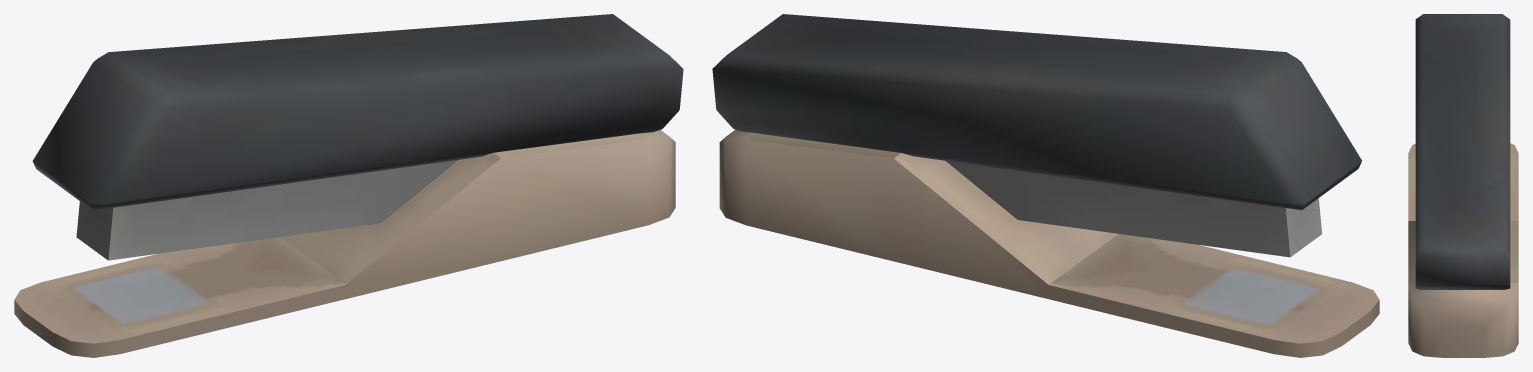
Rendered from OfficeDeskSet02__3.fbx.
3 views of the same model, side by side, from view 1: azimuth 30°, elevation 25°; view 2: azimuth 150°, elevation 25°; view 3: azimuth 270°, elevation 25° (orthographic). The views are drawn at different scales.
Visible parts, largest first — view 1: OfficeDeskSet02; view 2: OfficeDeskSet02; view 3: OfficeDeskSet02.
Boxes of the visible parts, x1,y1,x2,y2 form: OfficeDeskSet02: (14, 14, 683, 357); OfficeDeskSet02: (712, 14, 1379, 357); OfficeDeskSet02: (1408, 14, 1518, 357).
Size of the model in its own units: 0.1371 by 0.0511 by 0.0305.
Materials: 1 (1 with a texture image).
